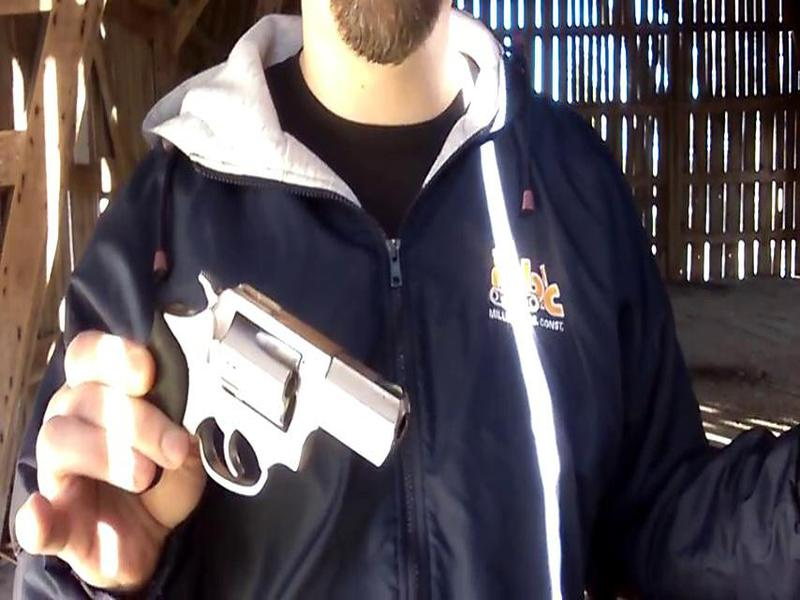Revolver: (131, 262, 415, 516)
